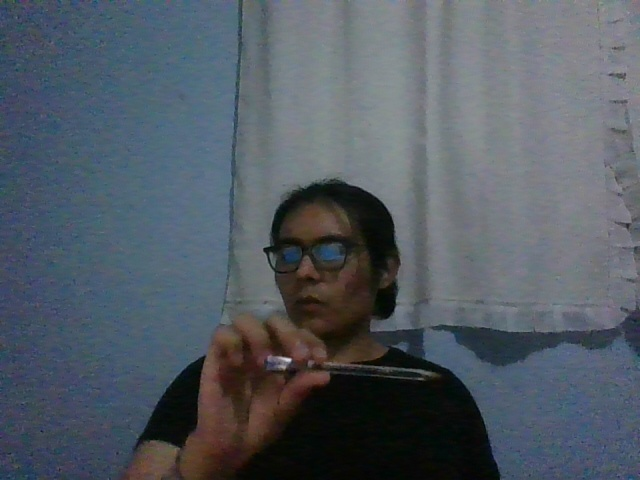pluma: (264, 355, 443, 382)
